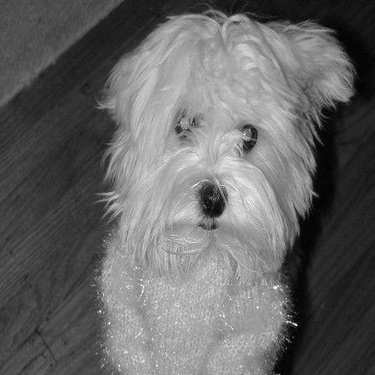dog: (84, 8, 358, 372)
